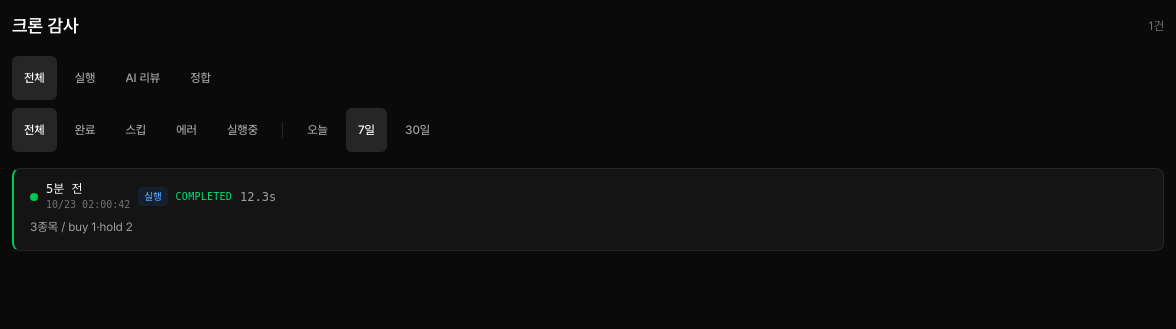
CronRunsPage › renders a decision with null detail without crashing and shows no component line
Expected: the text "COMPLETED" is shown, [176,189,232,204]
Click the button "5분 전 10/23 02:00:42 실행 COMPLETED 12.3s 3종목 / buy 1·hold 2" at (64, 189), box [14,169,1163,250]
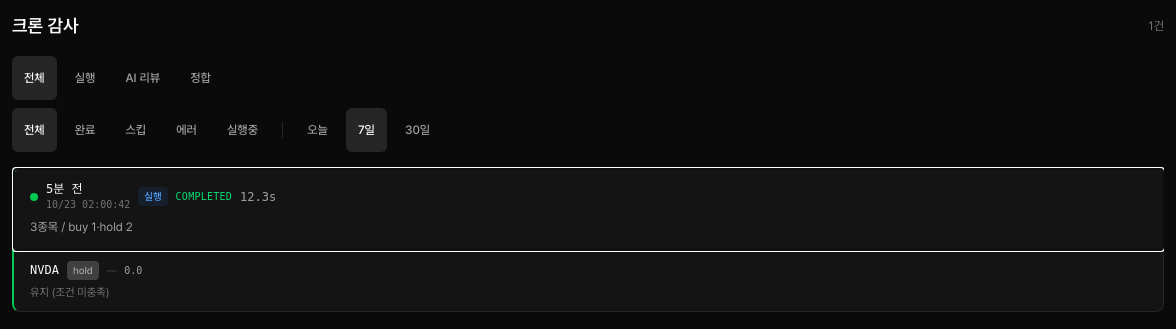
Expected: the text "NVDA" is shown, [30,262,59,278]
Expected: the text "유지 (조건 미충족)" is shown, [30,286,110,298]
